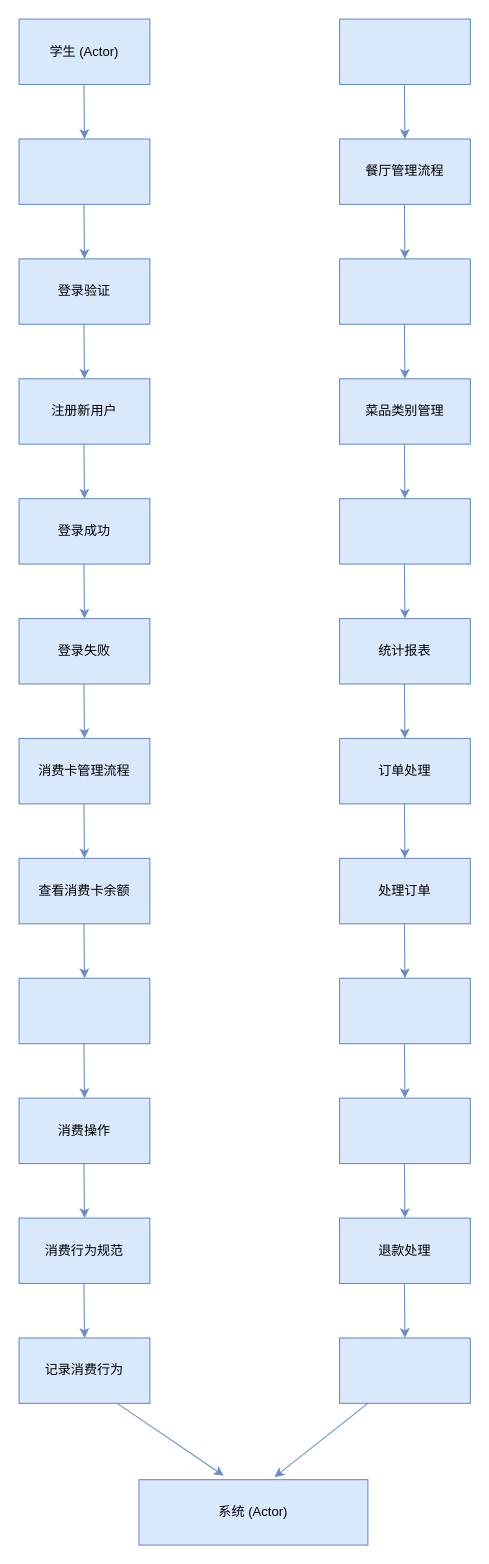
The diagram is 489 pixels wide and 1564 high, and some of its shapes have lost their labels. The shapes that lost their labels are listed below. From the top down, each one's centre as x and y in pixels, then its label:
At pixel 404 51: "管理员 (Actor)".
At pixel 84 171: "登录/注册流程".
At pixel 404 291: "菜品管理".
At pixel 404 531: "优惠政策管理".
At pixel 84 1010: "充值操作".
At pixel 404 1010: "订单确认".
At pixel 404 1130: "订单取消".
At pixel 404 1370: "退款确认".
